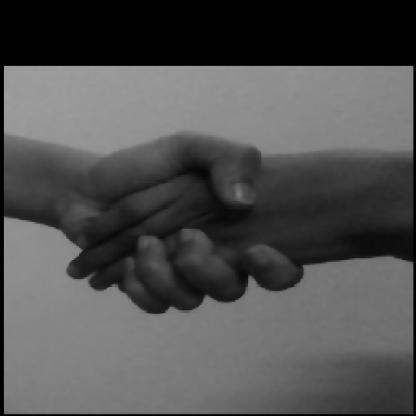handshake: (4, 128, 413, 316)
